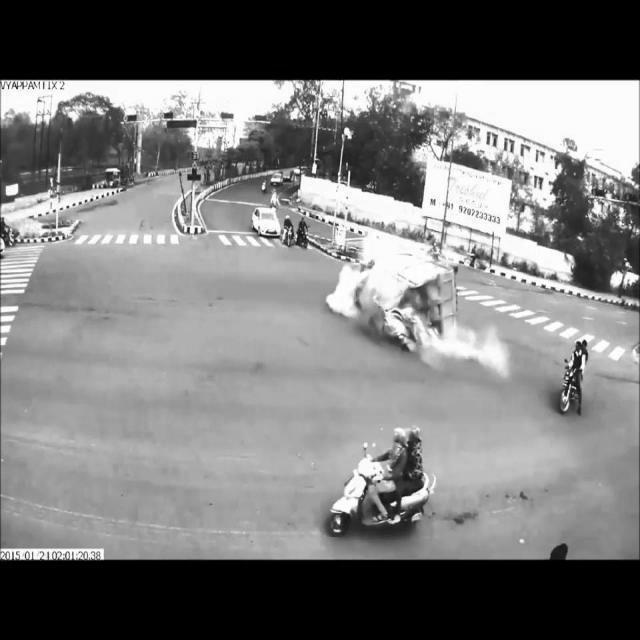accident: (347, 224, 462, 350)
vehicle: (327, 423, 435, 535), (556, 338, 590, 417), (248, 204, 285, 242), (298, 219, 312, 249), (284, 212, 295, 250), (258, 177, 270, 193), (284, 167, 295, 183), (270, 169, 281, 183)
